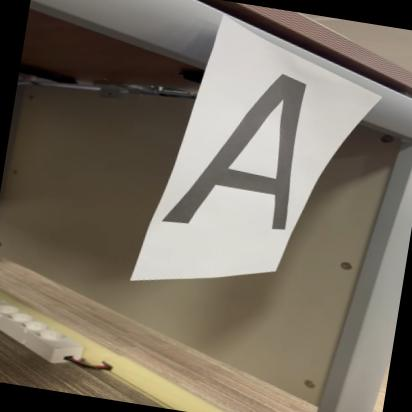seat: (151, 54, 338, 262)
